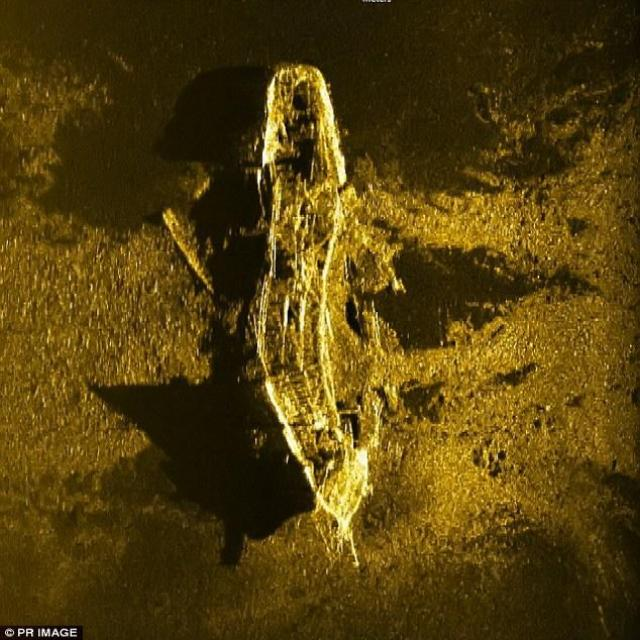ship: (250, 58, 376, 540)
